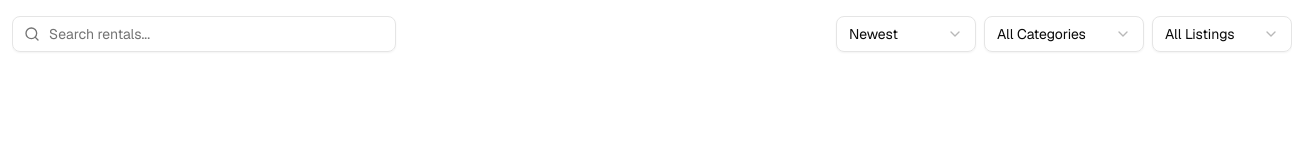
Test: GarageFiltersClient › Display Name Functions › should format category display name without emoji when icon not found
What coordinates should you click on to do the following:
click the dropdown "All Categories"
I would click on:
 (1064, 34)
Its box is [984, 16, 1144, 52].
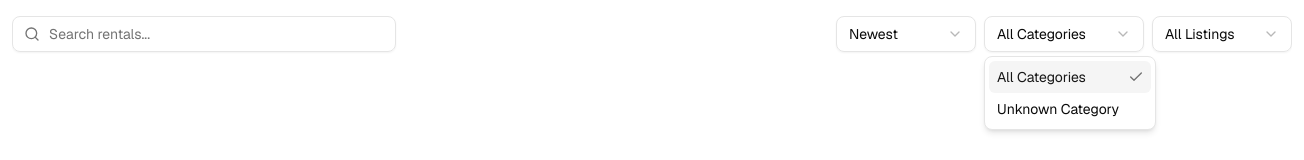
Check: the text "Unknown Category" is shown, box [997, 99, 1119, 119]
